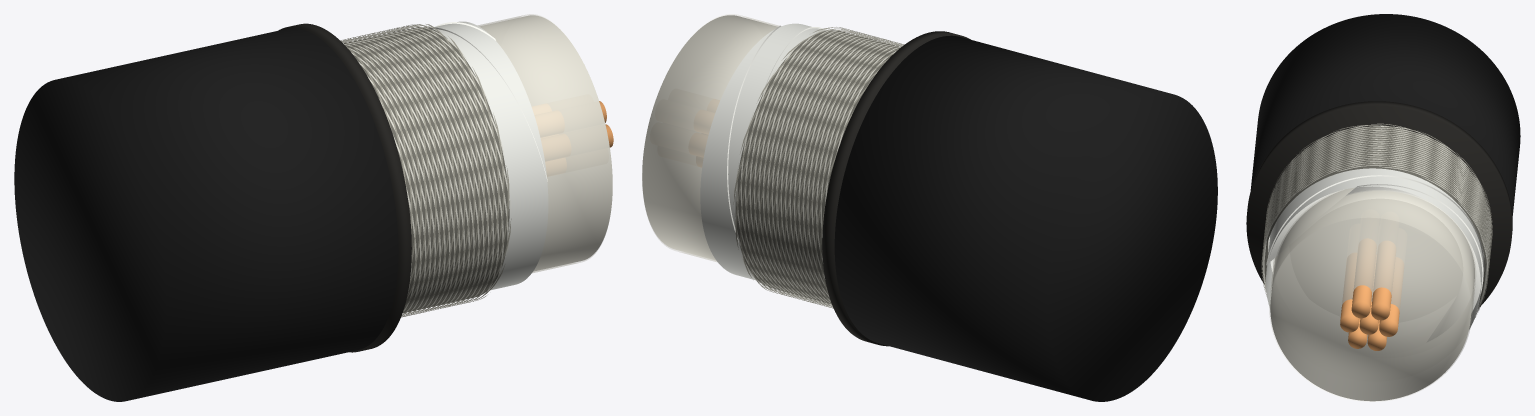
Rendered from rf-lmr600uf.glb.
The picture shows the model from 3 angles, left to right: view 1: azimuth 30°, elevation 25°; view 2: azimuth 150°, elevation 25°; view 3: azimuth 270°, elevation 25°; orthographic projection. The views are drawn at different scales.
Parts seen in each view (by area): view 1: matte black pvc jacket body, braid dark diamond recess, smooth dielectric skin, gas injected foam dielectric, duobond foil sleeve, jacket cut lip, braid left hand woven carrier 15, braid left hand woven carrier 16, braid left hand woven carrier 14, braid left hand woven carrier 01, braid left hand woven carrier 13, braid left hand woven carrier 02 (+19 smaller); view 2: matte black pvc jacket body, braid dark diamond recess, smooth dielectric skin, gas injected foam dielectric, duobond foil sleeve, jacket cut lip, braid left hand woven carrier 10, braid left hand woven carrier 09, braid left hand woven carrier 11, braid left hand woven carrier 08, braid left hand woven carrier 12, braid left hand woven carrier 07 (+19 smaller); view 3: gas injected foam dielectric, matte black pvc jacket body, jacket cut lip, braid dark diamond recess, smooth dielectric skin, duobond foil sleeve, subtle foil wrap lap, 7 strand center conductor 03, 7 strand center conductor 04, 7 strand center conductor 05, 7 strand center conductor 02, braid left hand woven carrier 10 (+34 smaller).
Boxes of the visible parts, bbox=[...] form: matte black pvc jacket body: bbox=[14, 28, 398, 401]; braid dark diamond recess: bbox=[343, 27, 509, 313]; smooth dielectric skin: bbox=[477, 14, 612, 273]; gas injected foam dielectric: bbox=[479, 15, 612, 271]; duobond foil sleeve: bbox=[432, 21, 548, 290]; jacket cut lip: bbox=[278, 23, 411, 352]; braid left hand woven carrier 15: bbox=[340, 36, 494, 308]; braid left hand woven carrier 16: bbox=[343, 37, 499, 307]; braid left hand woven carrier 14: bbox=[341, 24, 489, 309]; braid left hand woven carrier 01: bbox=[345, 36, 504, 306]; braid left hand woven carrier 13: bbox=[341, 24, 484, 311]; braid left hand woven carrier 02: bbox=[350, 35, 509, 307]; matte black pvc jacket body: bbox=[834, 35, 1217, 401]; braid dark diamond recess: bbox=[735, 30, 899, 303]; smooth dielectric skin: bbox=[642, 14, 778, 262]; gas injected foam dielectric: bbox=[642, 15, 777, 260]; duobond foil sleeve: bbox=[700, 23, 824, 280]; jacket cut lip: bbox=[822, 31, 970, 346]; braid left hand woven carrier 10: bbox=[735, 33, 885, 308]; braid left hand woven carrier 09: bbox=[740, 34, 890, 307]; braid left hand woven carrier 11: bbox=[733, 32, 881, 308]; braid left hand woven carrier 08: bbox=[744, 35, 894, 304]; braid left hand woven carrier 12: bbox=[740, 31, 888, 307]; braid left hand woven carrier 07: bbox=[749, 37, 899, 295]; gas injected foam dielectric: bbox=[1270, 187, 1474, 401]; matte black pvc jacket body: bbox=[1250, 14, 1520, 217]; jacket cut lip: bbox=[1246, 101, 1512, 308]; braid dark diamond recess: bbox=[1264, 126, 1488, 302]; smooth dielectric skin: bbox=[1269, 188, 1475, 401]; duobond foil sleeve: bbox=[1266, 168, 1484, 329]; subtle foil wrap lap: bbox=[1266, 175, 1484, 341]; 7 strand center conductor 03: bbox=[1371, 241, 1395, 320]; 7 strand center conductor 04: bbox=[1351, 238, 1376, 318]; 7 strand center conductor 05: bbox=[1340, 253, 1359, 332]; 7 strand center conductor 02: bbox=[1379, 257, 1403, 336]; braid left hand woven carrier 10: bbox=[1264, 126, 1491, 298].
Bounding box in the file's own units: 6.59 × 3.78 × 3.9.
